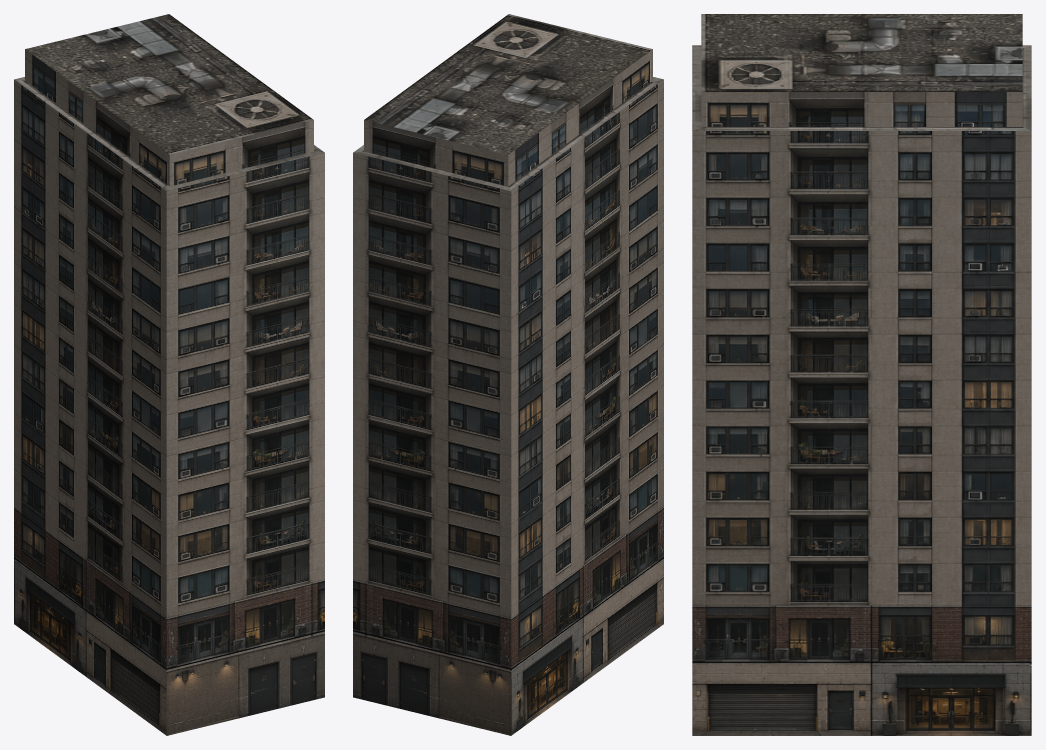
The model's file is HighriseApartment.glb.
The picture shows the model from 3 angles, left to right: view 1: azimuth 30°, elevation 25°; view 2: azimuth 150°, elevation 25°; view 3: azimuth 270°, elevation 25°; orthographic projection. The views are drawn at different scales.
Parts seen in each view (by area): view 1: Cube; view 2: Cube; view 3: Cube.
Boxes of the visible parts, x1,y1,x2,y2 form: Cube: (14, 14, 324, 735); Cube: (353, 14, 663, 735); Cube: (692, 14, 1031, 735).
Bounding box in the file's own units: 5.16 × 17.98 × 8.64.
Materials: 1 (1 with a texture image).
